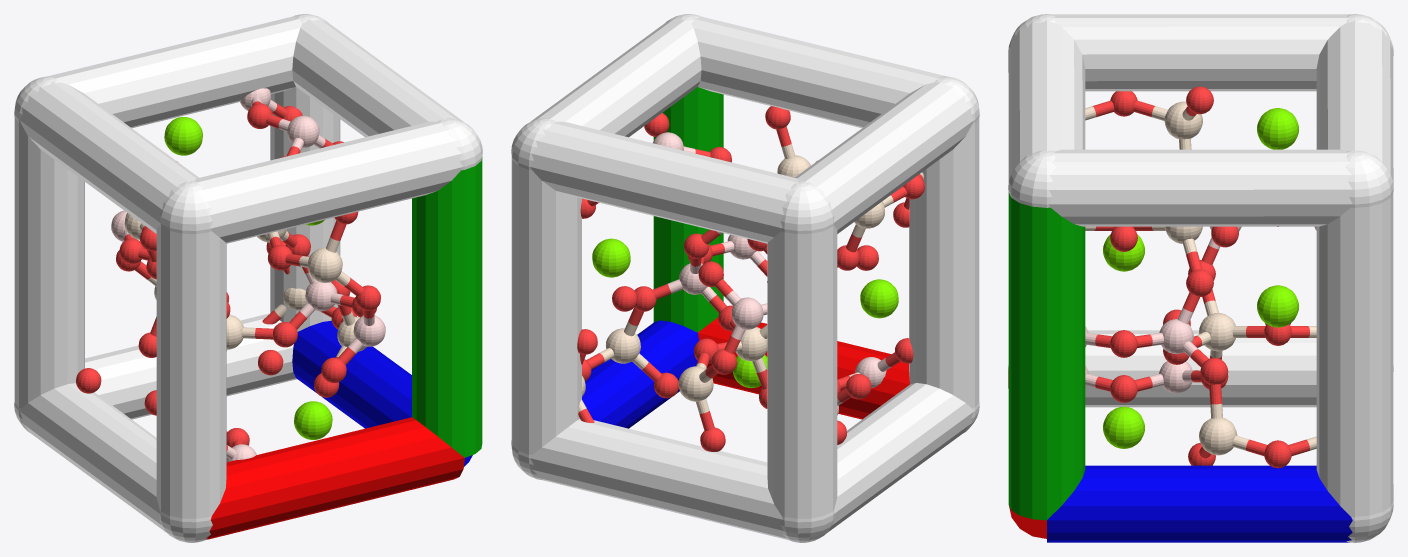
The picture shows the model from 3 angles, left to right: view 1: azimuth 30°, elevation 25°; view 2: azimuth 150°, elevation 25°; view 3: azimuth 270°, elevation 25°; orthographic projection. The views are drawn at different scales.
Parts seen in each view (by area): view 1: _29_Cylinder.001, _45_Cylinder, _33_Cylinder.001, _29_Cylinder.002, _50_Cylinder, _33_Cylinder.002, _35_Cylinder.002, _35_Cylinder.001, _35_Cylinder, _40_Cylinder, _33_Cylinder, _29_Cylinder (+10 smaller); view 2: _29_Cylinder.002, _29_Cylinder, _33_Cylinder.002, _29_Cylinder.001, _33_Cylinder, _33_Cylinder.001, _35_Cylinder.002, _35_Cylinder.001, _35_Cylinder, _45_Cylinder, _40_Cylinder, _50_Cylinder (+12 smaller); view 3: _45_Cylinder, _29_Cylinder, _35_Cylinder, _40_Cylinder, _35_Cylinder.002, _35_Cylinder.001, _33_Cylinder.002, _33_Cylinder.001, _32_Sphere.001, _32_Sphere.003, _0_Sphere.002, _0_Sphere (+20 smaller).
Part boxes in pixels (x1,y1,x2,y2): _29_Cylinder.001: (156,225,226,518); _45_Cylinder: (412,157,482,457); _33_Cylinder.001: (194,121,462,243); _29_Cylinder.002: (14,118,84,408); _50_Cylinder: (206,417,464,539); _33_Cylinder.002: (48,16,302,128); _35_Cylinder.002: (20,81,198,233); _35_Cylinder.001: (20,383,166,532); _35_Cylinder: (292,19,463,137); _40_Cylinder: (292,320,472,466); _33_Cylinder: (85,313,296,419); _29_Cylinder: (270,87,340,331); _29_Cylinder.002: (767,225,837,518); _29_Cylinder: (511,157,581,454); _33_Cylinder.002: (530,121,799,243); _29_Cylinder.001: (909,118,979,408); _33_Cylinder: (530,418,787,539); _33_Cylinder.001: (691,16,945,127); _35_Cylinder.002: (795,81,973,233); _35_Cylinder.001: (826,383,973,533); _35_Cylinder: (530,18,701,137); _45_Cylinder: (653,87,723,332); _40_Cylinder: (582,320,699,428); _50_Cylinder: (698,317,909,419); _45_Cylinder: (1008,192,1085,520); _29_Cylinder: (1316,192,1393,516); _35_Cylinder: (1049,149,1352,226); _40_Cylinder: (1047,465,1352,542); _35_Cylinder.002: (1051,14,1349,91); _35_Cylinder.001: (1085,330,1316,407); _33_Cylinder.002: (1316,20,1393,184); _33_Cylinder.001: (1008,20,1085,181); _32_Sphere.001: (1346,150,1393,207); _32_Sphere.003: (1008,150,1055,207); _0_Sphere.002: (1257,285,1298,327); _0_Sphere: (1103,406,1144,448).
Bounding box in the file's own units: 9.99 × 10.7 × 9.68.
